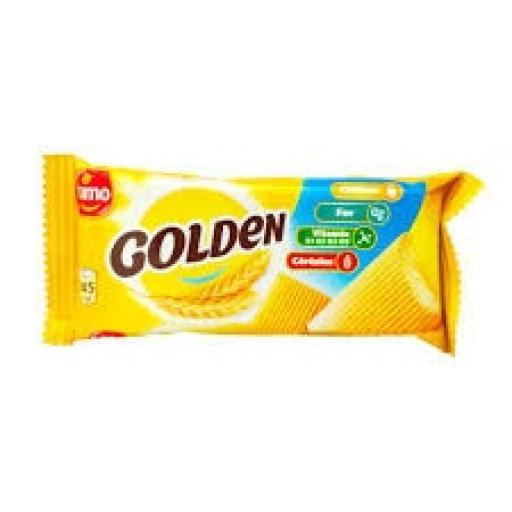golden: (31, 117, 499, 381)
